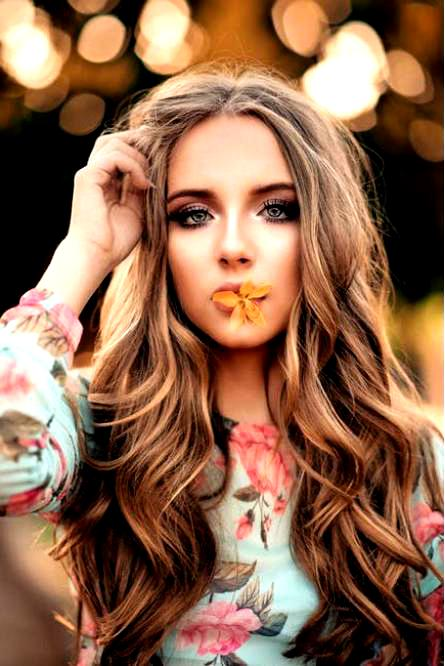face: (165, 117, 303, 341)
